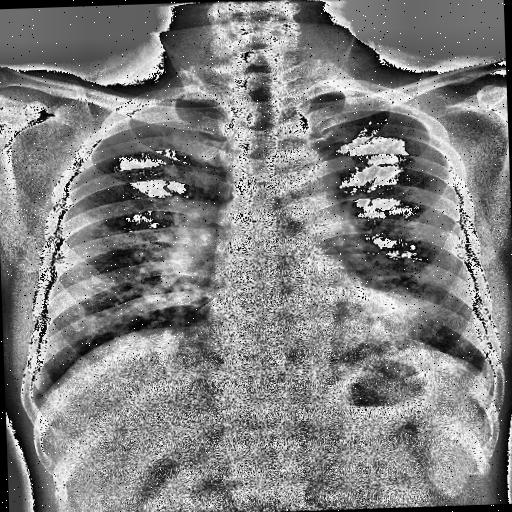0- Aortic enlargement: (268, 146, 342, 220), (270, 149, 342, 221), (266, 142, 340, 212)
5- ILD: (44, 169, 194, 371), (384, 174, 512, 359)
7- Lung Opacity: (30, 196, 224, 374), (338, 197, 478, 362), (45, 228, 207, 369), (347, 208, 482, 348)
